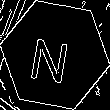N_N: (32, 27, 78, 83)
